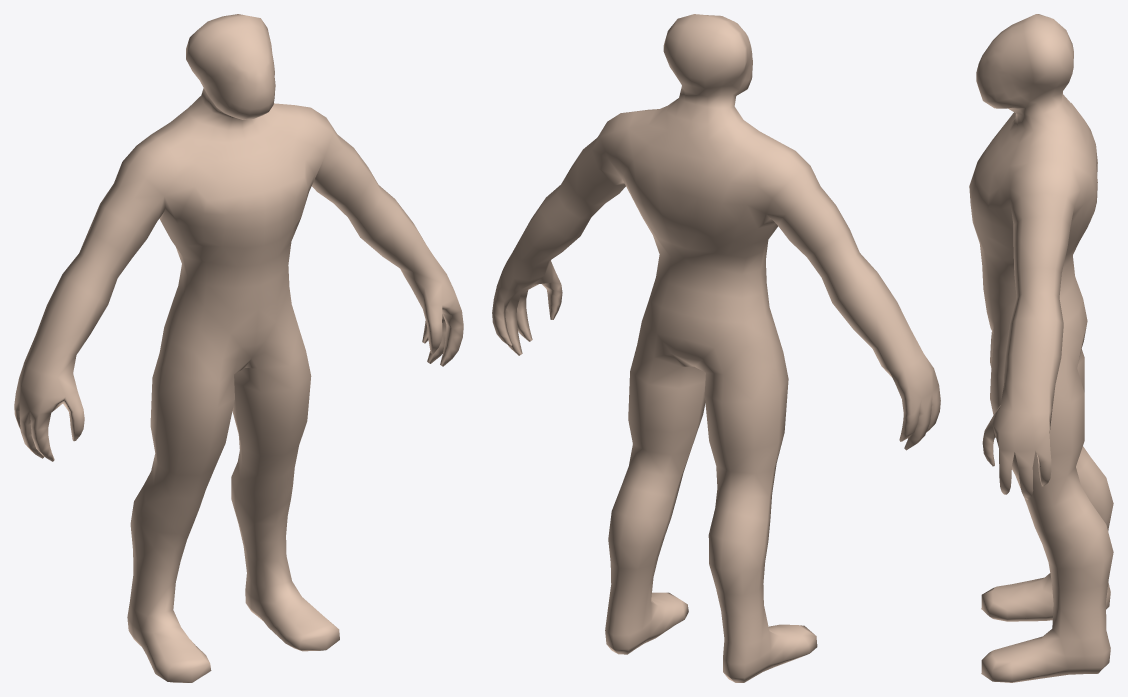
Rendered from monstertest.fbx.
The picture shows the model from 3 angles, left to right: view 1: azimuth 30°, elevation 25°; view 2: azimuth 150°, elevation 25°; view 3: azimuth 270°, elevation 25°; orthographic projection.
Parts seen in each view (by area): view 1: CharacterFullAlienHorrorStyle:Alien_HorrorStyle; view 2: CharacterFullAlienHorrorStyle:Alien_HorrorStyle; view 3: CharacterFullAlienHorrorStyle:Alien_HorrorStyle.
Boxes of the visible parts, x1,y1,x2,y2 form: CharacterFullAlienHorrorStyle:Alien_HorrorStyle: [14, 14, 463, 682]; CharacterFullAlienHorrorStyle:Alien_HorrorStyle: [492, 14, 940, 682]; CharacterFullAlienHorrorStyle:Alien_HorrorStyle: [969, 14, 1113, 682].
Bounding box in the file's own units: 1.48 × 2.1 × 0.4387.
